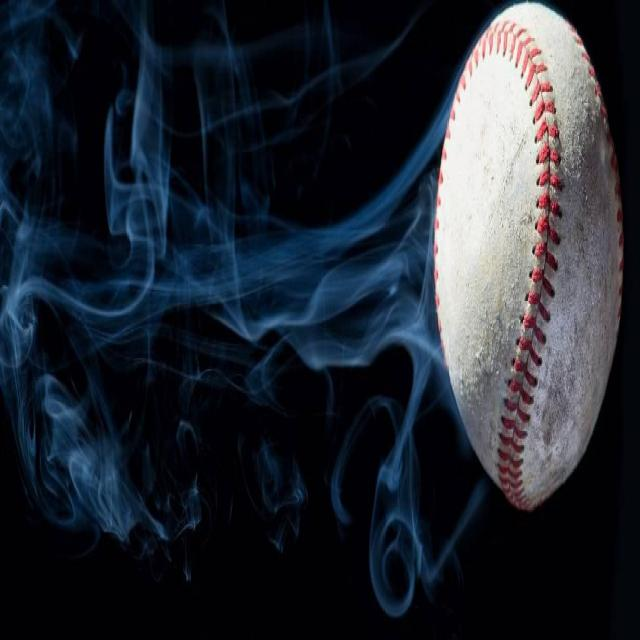baseball: (438, 9, 620, 508)
